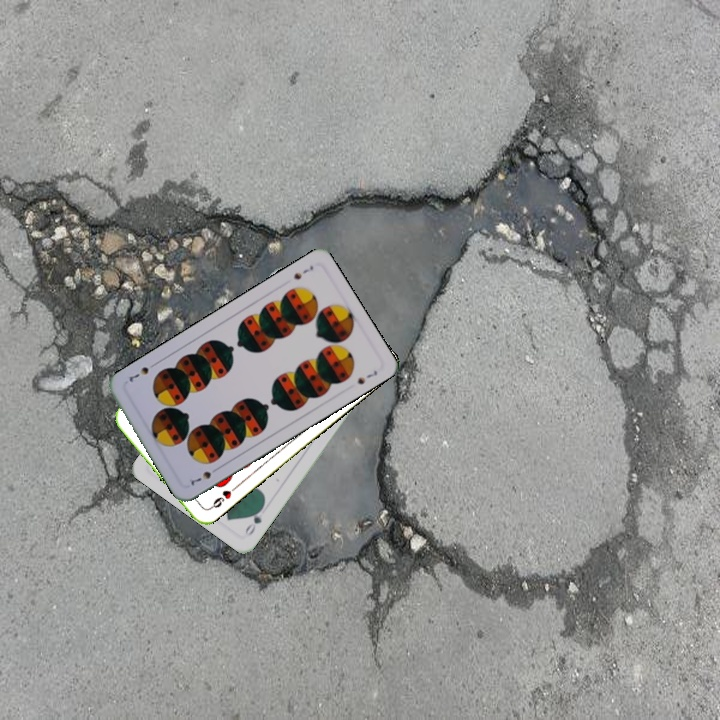GO: (241, 501, 266, 538)
H9: (205, 483, 239, 513)
S7: (186, 463, 222, 487), (290, 261, 316, 282)
